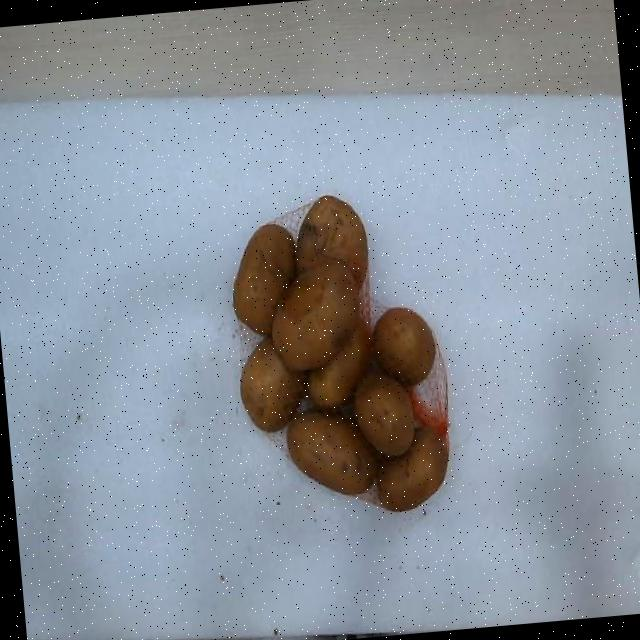potato: (272, 263, 359, 368), (286, 410, 377, 493), (232, 224, 295, 334), (297, 195, 368, 284), (240, 338, 305, 430), (377, 427, 446, 511), (307, 323, 371, 408), (354, 373, 414, 456), (373, 309, 436, 385)
